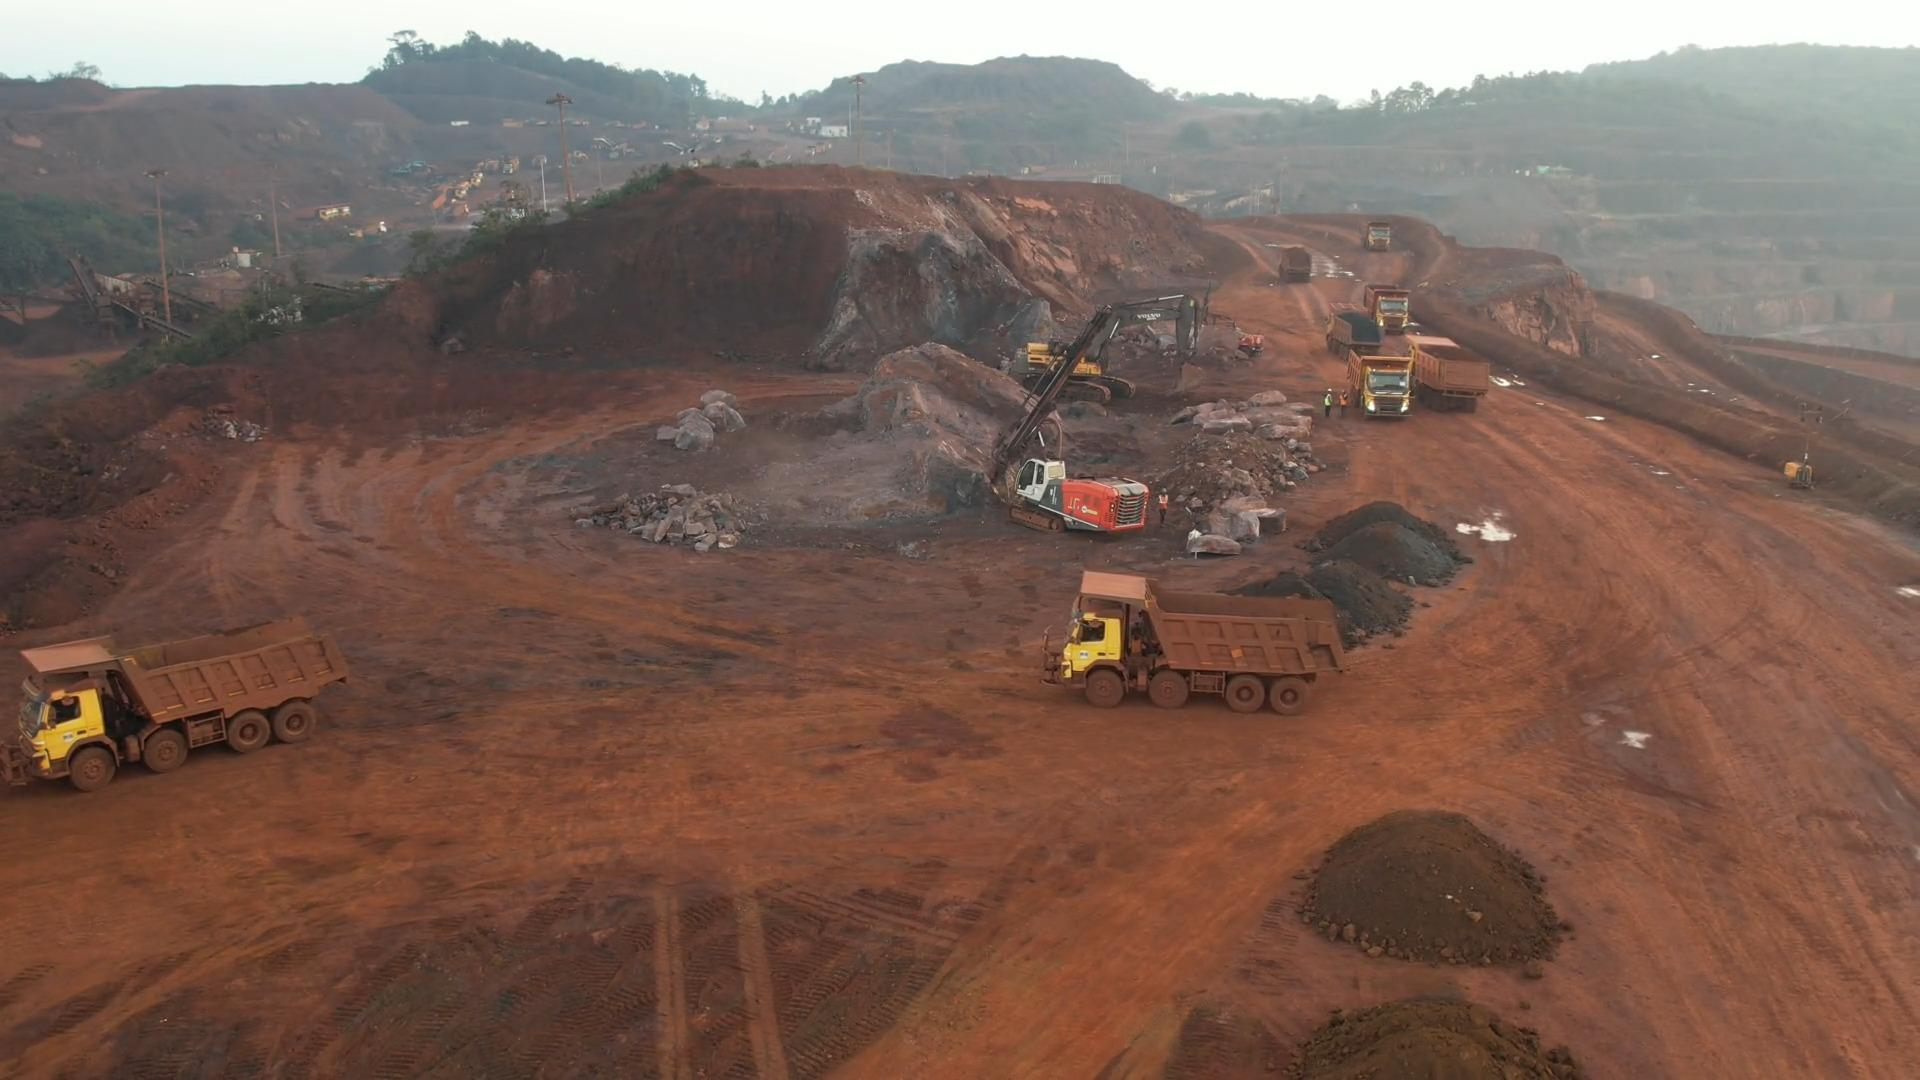excavator: (1023, 296, 1205, 397)
